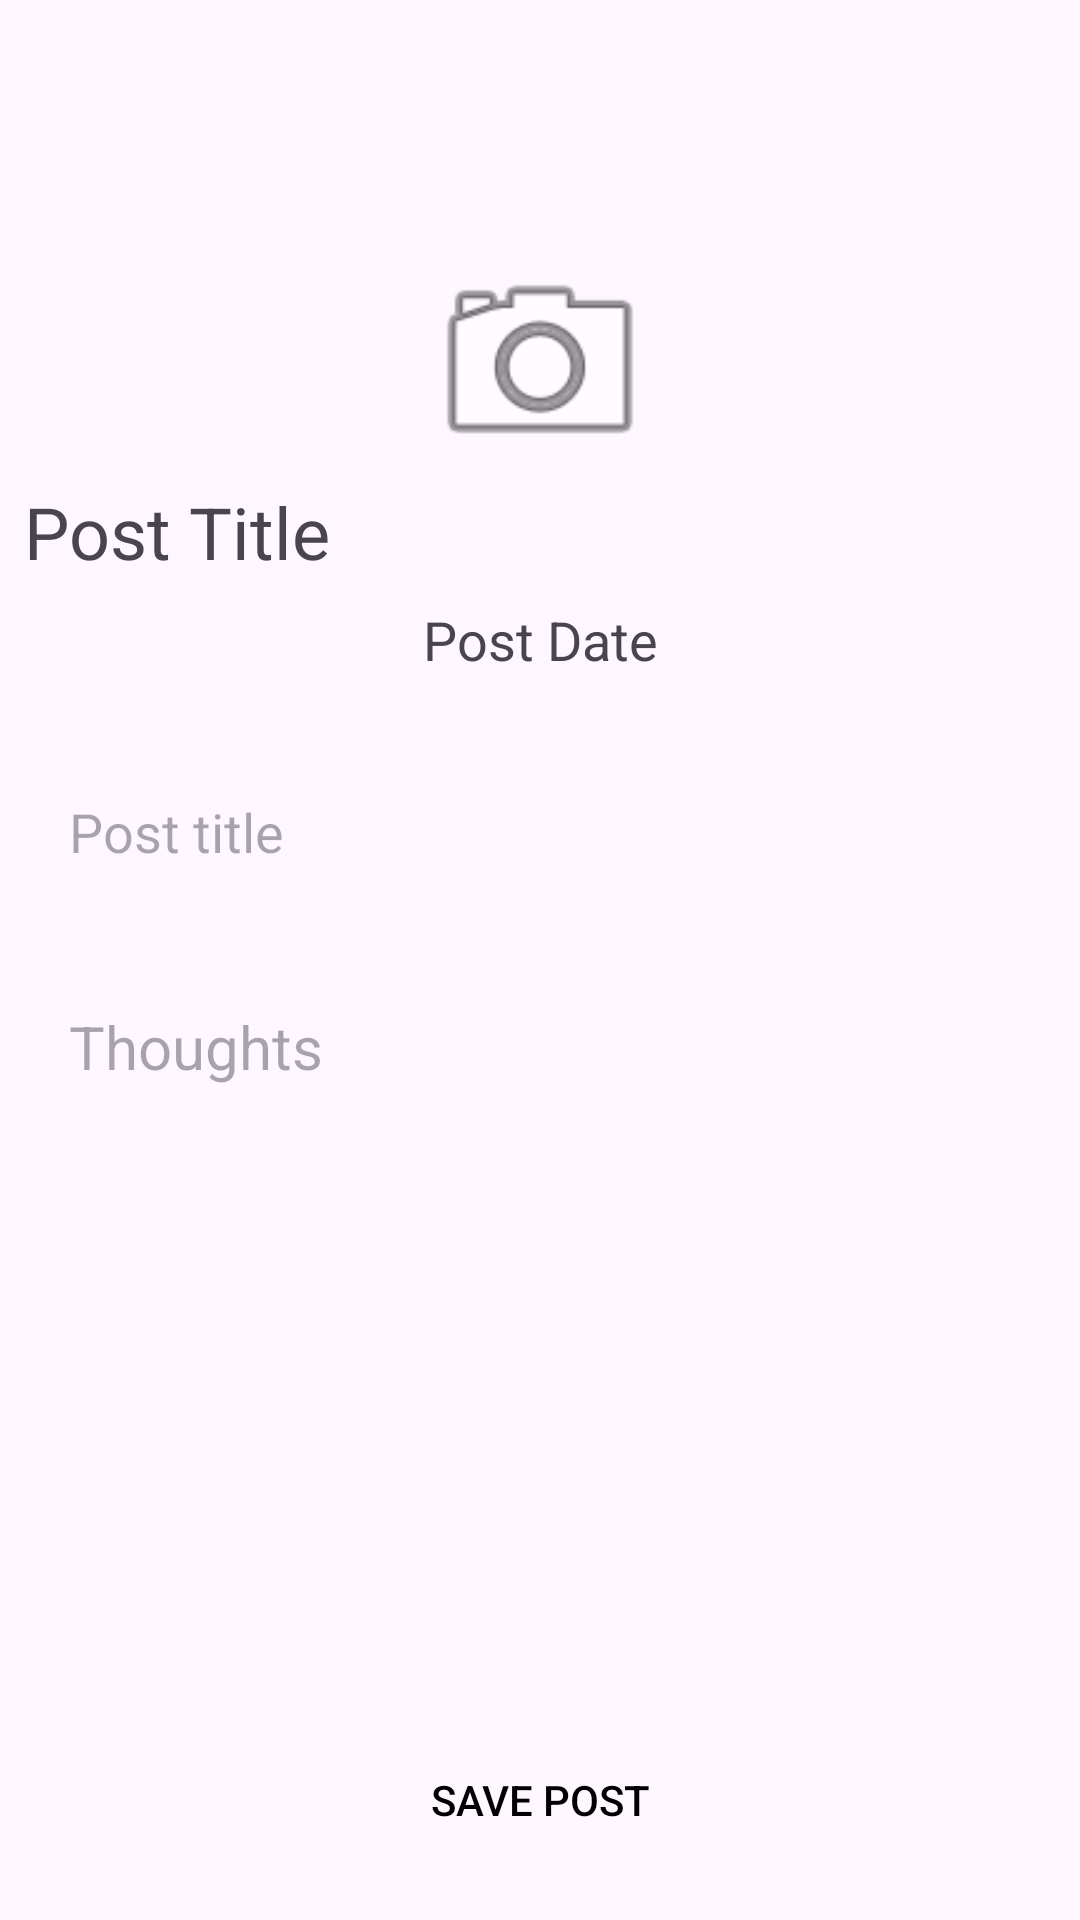

Locate icon controls on the screen. Image size 1080 × 1920, boxes as (x1, y1, x2, y2).
camera: (447, 285, 633, 433)
